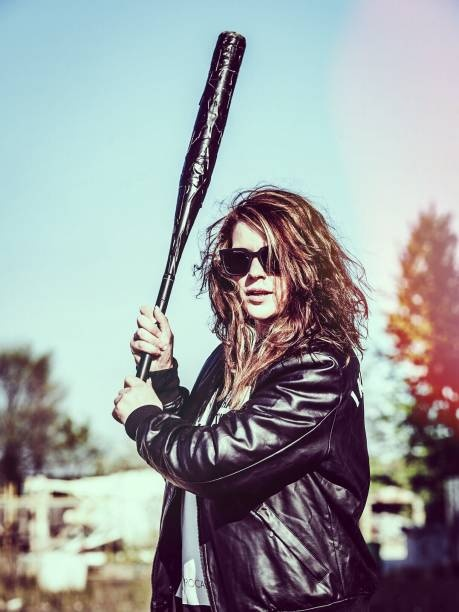bita: (127, 27, 245, 405)
